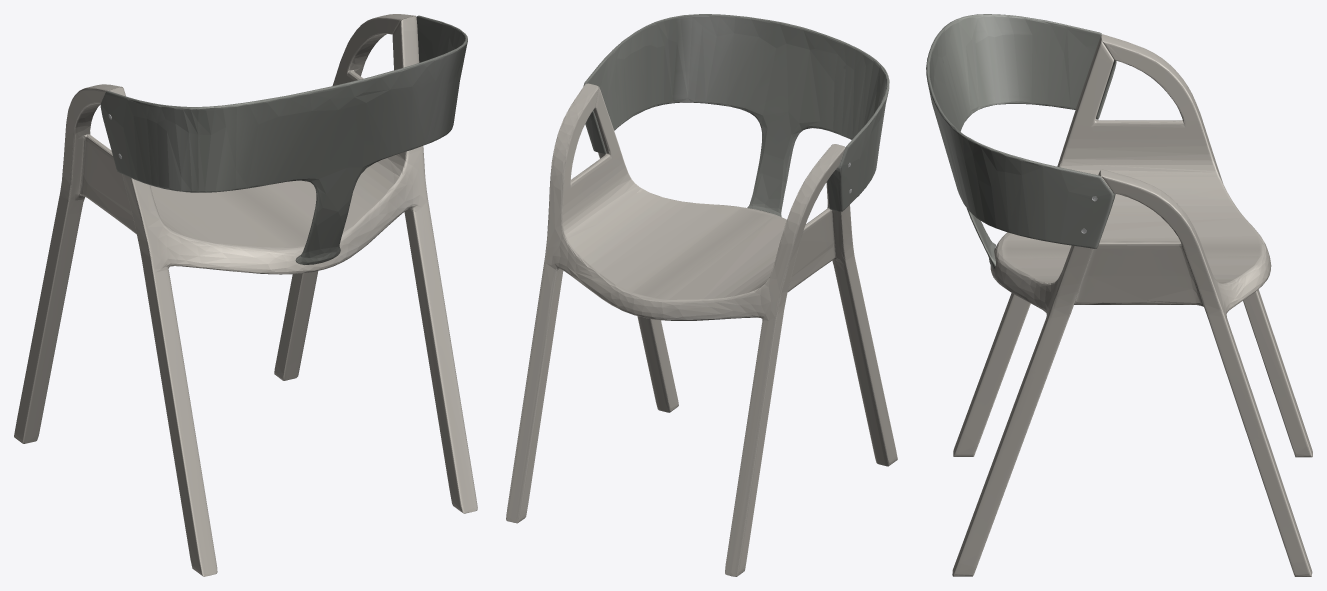
3 renders of one model, left to right at view 1: azimuth 30°, elevation 25°; view 2: azimuth 150°, elevation 25°; view 3: azimuth 270°, elevation 25°, orthographic. The views are drawn at different scales.
Parts seen in each view (by area): view 1: solid_001_wire; view 2: solid_001_wire; view 3: solid_001_wire.
Part boxes in pixels (box(x1,y1,x2,y2)): solid_001_wire: box(14, 14, 477, 576); solid_001_wire: box(506, 14, 897, 576); solid_001_wire: box(926, 14, 1312, 576).
Bounding box in the file's own units: 0.5347 × 0.7656 × 0.6012.
1 material, 1 textured.
